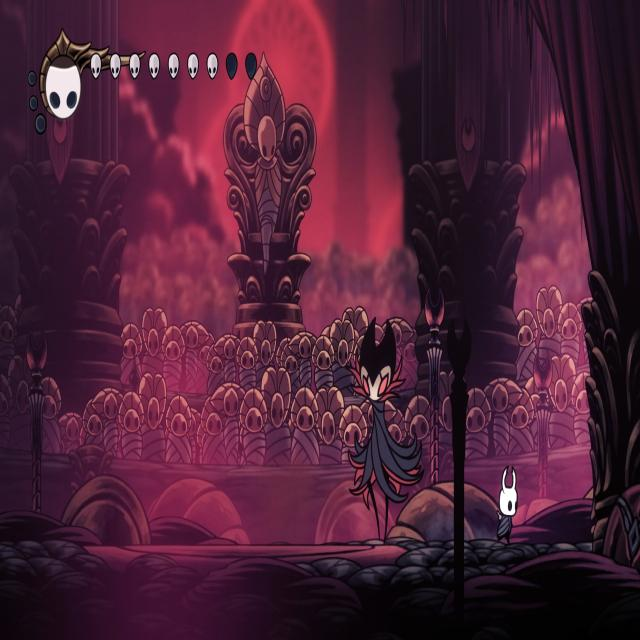Dash Uppercut: (346, 312, 428, 543)
Player: (494, 460, 522, 545)
